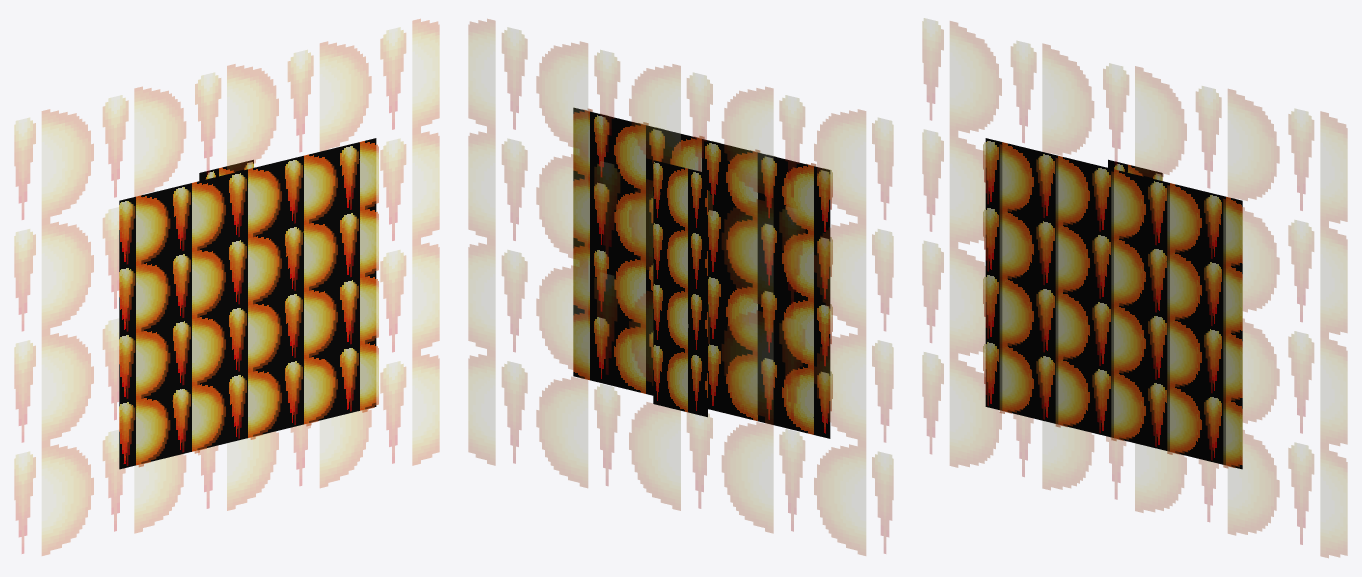
3 renders of one model, left to right at view 1: azimuth 30°, elevation 25°; view 2: azimuth 150°, elevation 25°; view 3: azimuth 330°, elevation 25°, orthographic.
Visible parts, largest first — view 1: ef_077; view 2: ef_077; view 3: ef_077.
Boxes of the visible parts, left/top/right/bottom form: ef_077: left=14, top=19, right=439, bottom=555; ef_077: left=468, top=19, right=893, bottom=555; ef_077: left=922, top=18, right=1347, bottom=557.
Size of the model in its own units: 0.6623 by 0.6623 by 0.0644.
3 materials, 3 textured.
